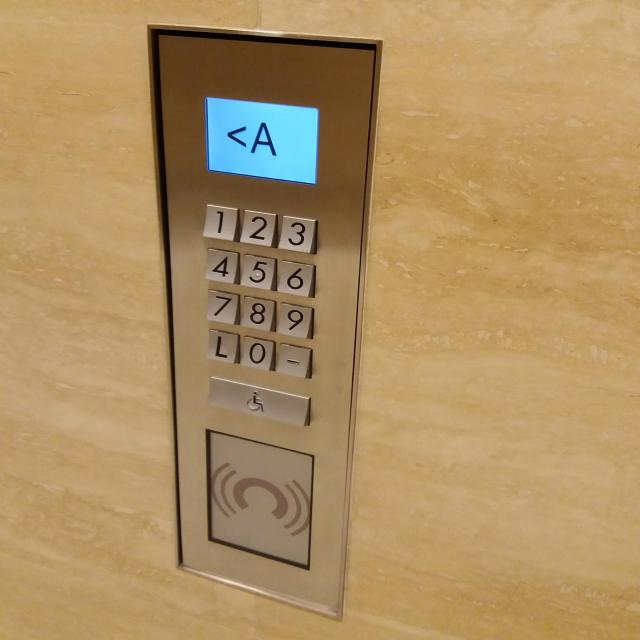-: (275, 342, 311, 378)
0: (238, 335, 274, 372)
1: (202, 203, 238, 242)
2: (240, 209, 276, 246)
3: (277, 215, 315, 253)
4: (204, 247, 238, 286)
5: (238, 254, 275, 290)
6: (276, 260, 314, 296)
7: (204, 291, 238, 325)
8: (241, 296, 274, 331)
9: (276, 302, 312, 340)
CH: (204, 376, 310, 427)
L: (206, 329, 238, 364)
led: (203, 97, 318, 184)
